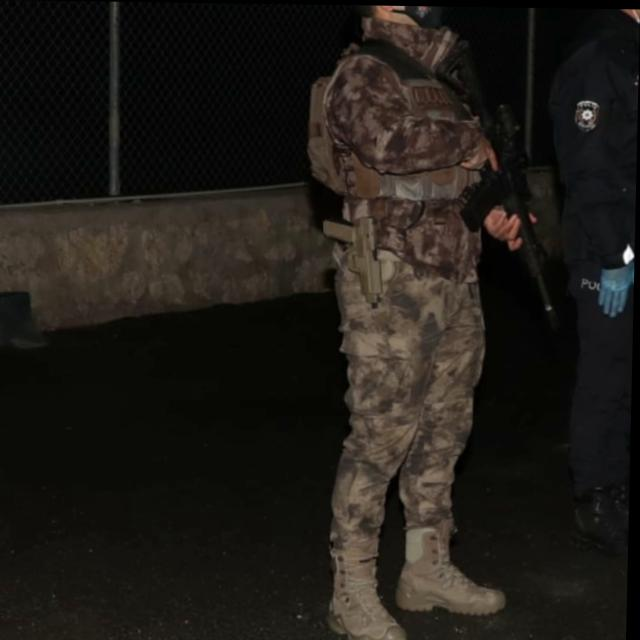poh_personel: (298, 4, 529, 640)
